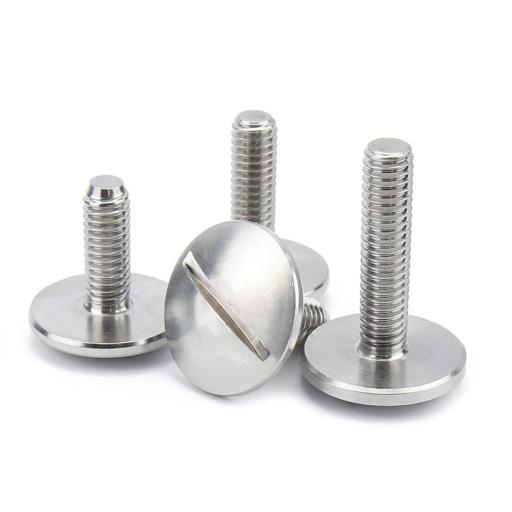Slotted: (166, 224, 298, 396)
